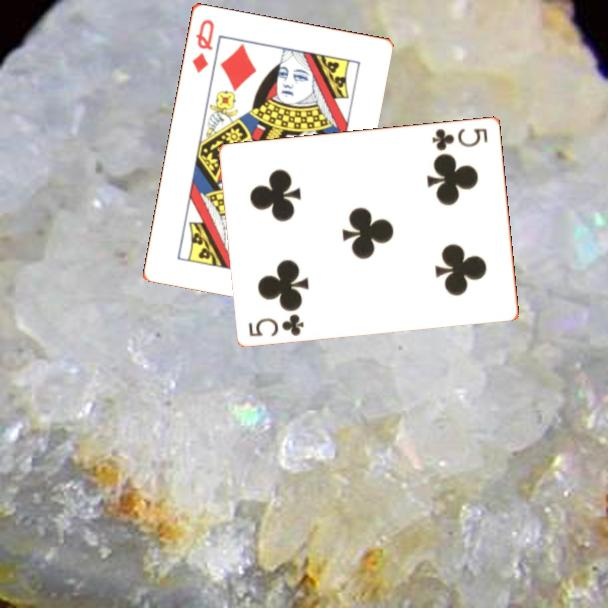c05: (429, 124, 491, 153), (245, 310, 307, 339)
d12: (188, 15, 217, 76)
